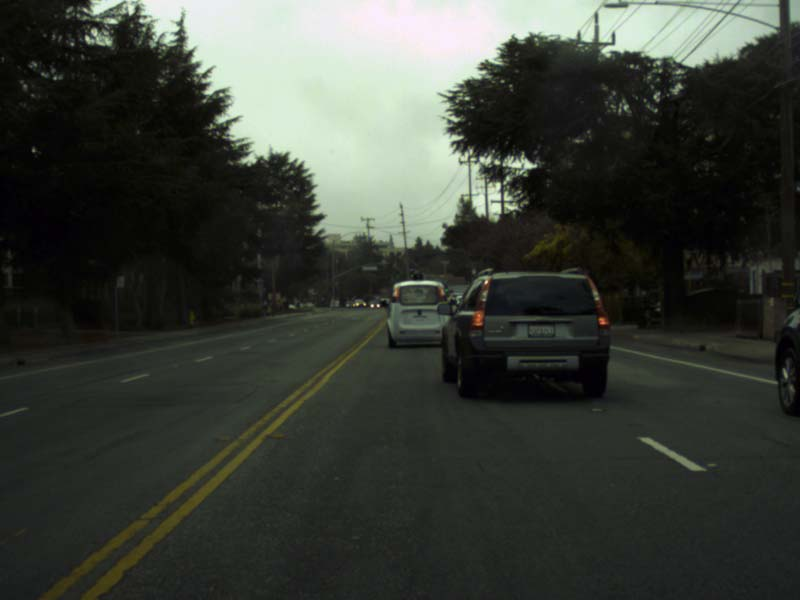Green: (396, 270, 400, 281), (410, 269, 414, 280), (444, 284, 448, 295)
